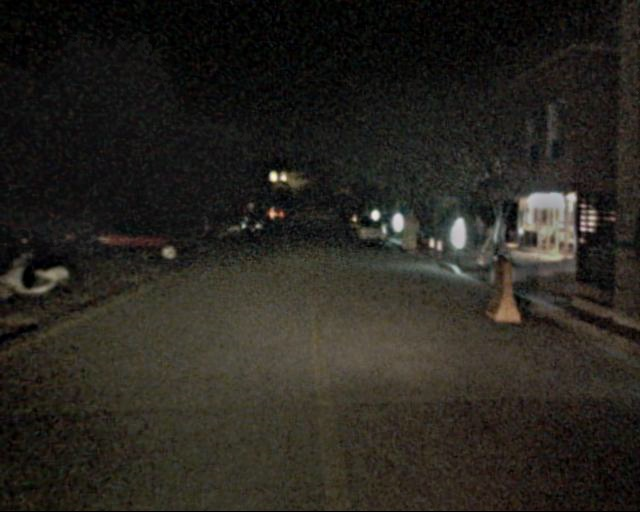person: (498, 214, 516, 259), (470, 215, 488, 259)
